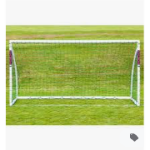goals: (7, 37, 142, 108)
